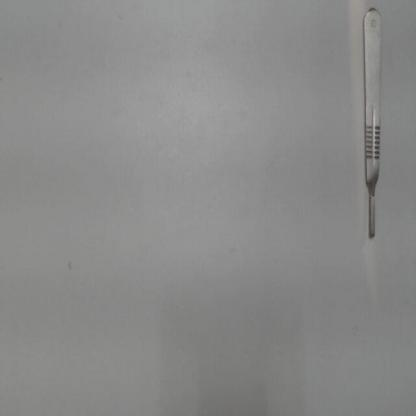No.4 BP Handle: (359, 1, 389, 245)
